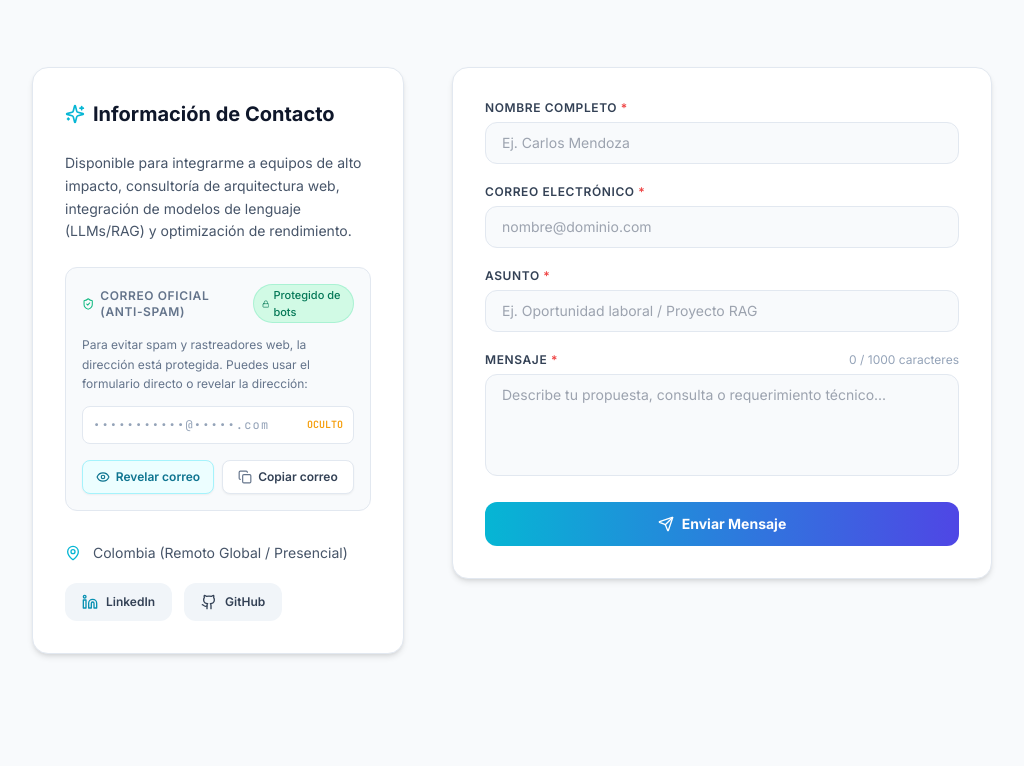
Functional Contact Component (Integration Flow) › shows error messages on invalid submit and clears on correction
The image size is (1024, 766).
(page scrolled)
Click the button with test id "contact-submit-button": click(722, 524) [485,502,959,546]
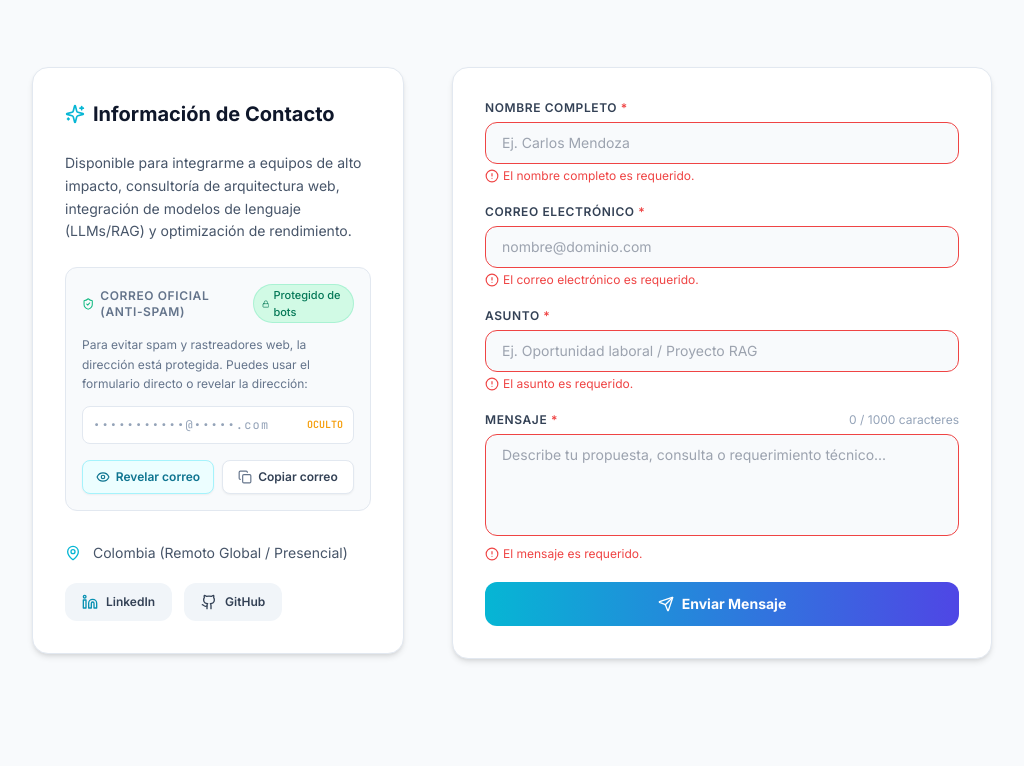
Expected: the element with test id "error-name" is shown, [485,168,694,183]
Expected: the element with test id "error-email" is shown, [485,272,699,287]
Expected: the element with test id "error-subject" is shown, [485,376,633,391]
Note: Now correct the name field
In the field with test id "contact-name-input": (722, 143) [485,122,959,164], type "Carlos Mendoza"
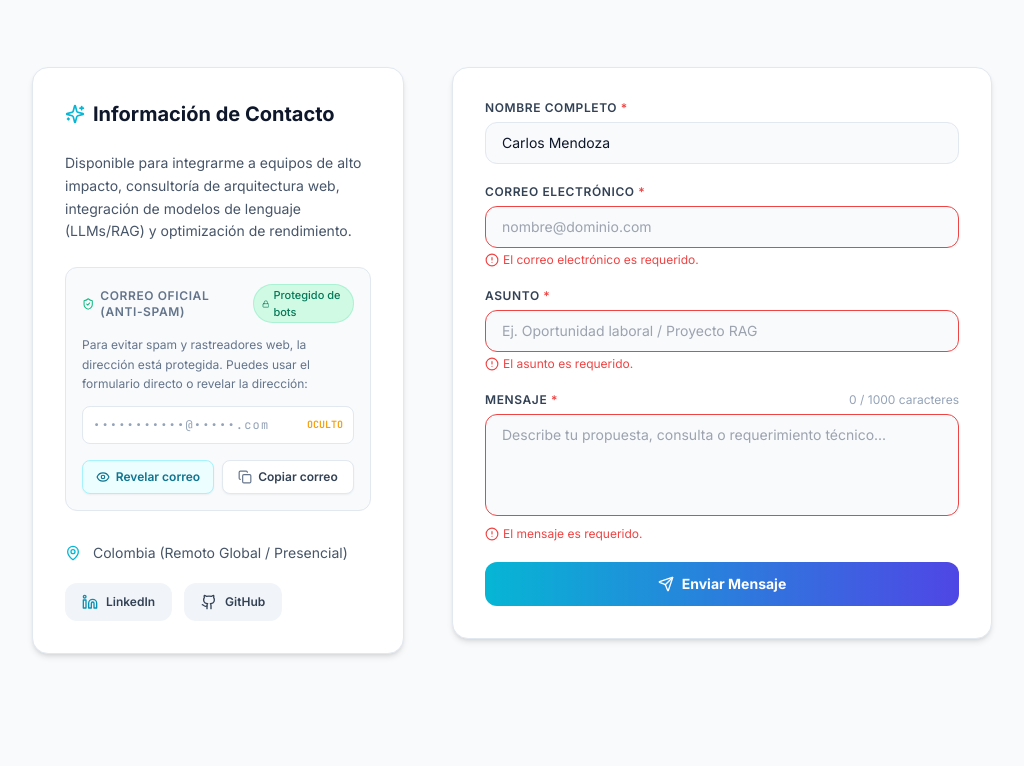
Expected: the element with test id "error-name" is gone
